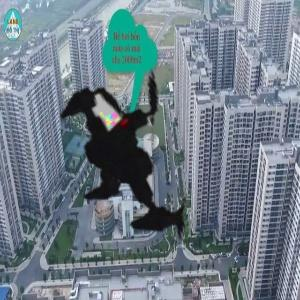drone: (6, 21, 275, 290)
